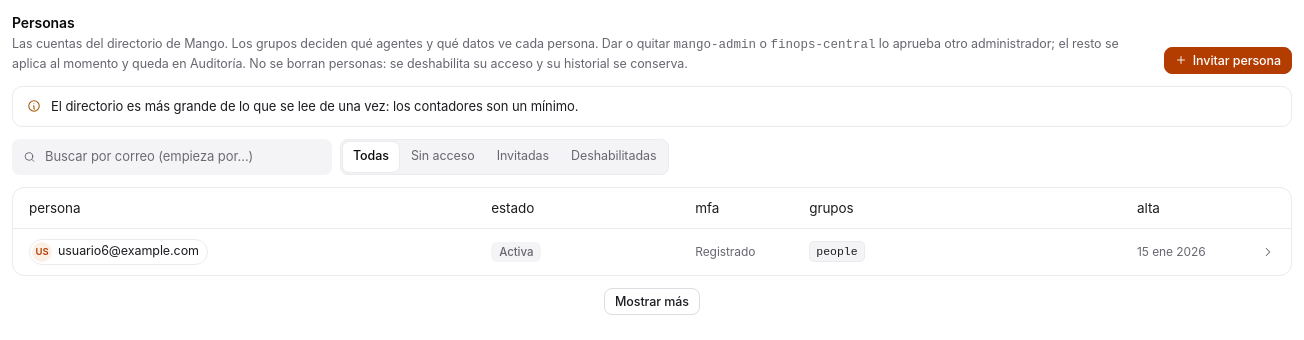
it: Ajustes › Personas (design people.jsx) › adds the next page with the cursor of the API
Step 1. Click the button "Mostrar más" → (652, 301), box [604, 288, 700, 315]
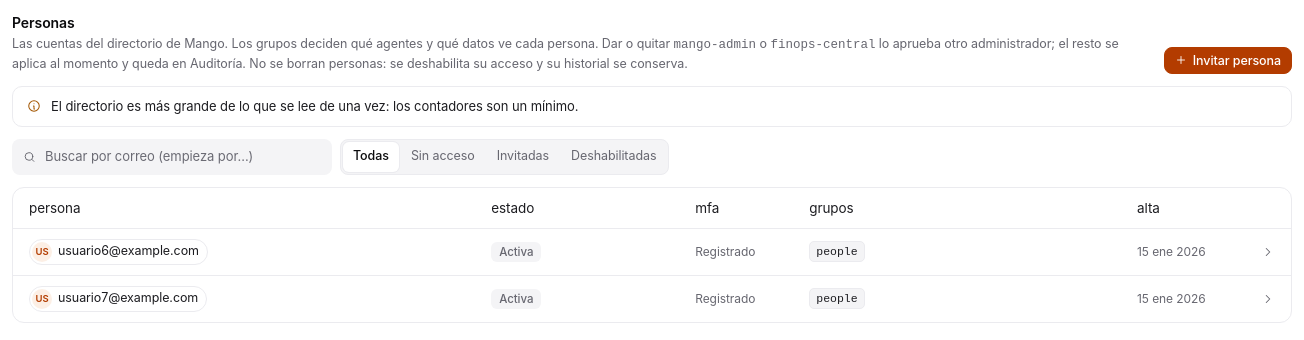
Check: the element titled "usuario6@example.com" is shown, box [58, 242, 199, 261]
Check: the button "Mostrar más" is gone
